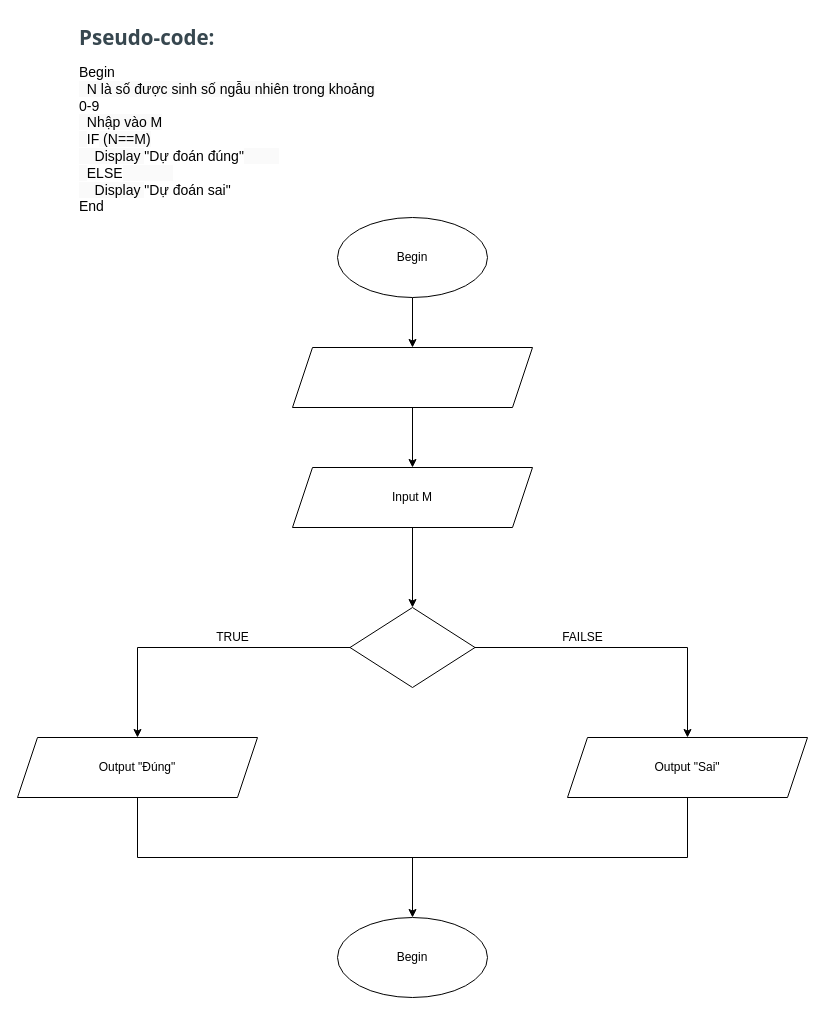
Some shapes in this 825 by 1015 pixel diagram are drawn without their labels. The box of each missing label's shape, as (x1, y1, x2, y2) in pixels:
Input ngẫu nhiên 0 - 9: (292, 346, 532, 408)
M == N: (349, 606, 475, 688)
